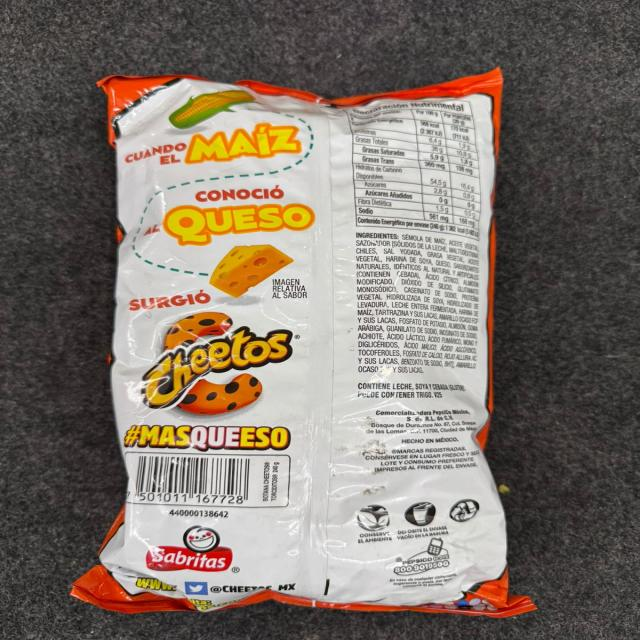Cheetos grandes: (64, 58, 551, 617)
